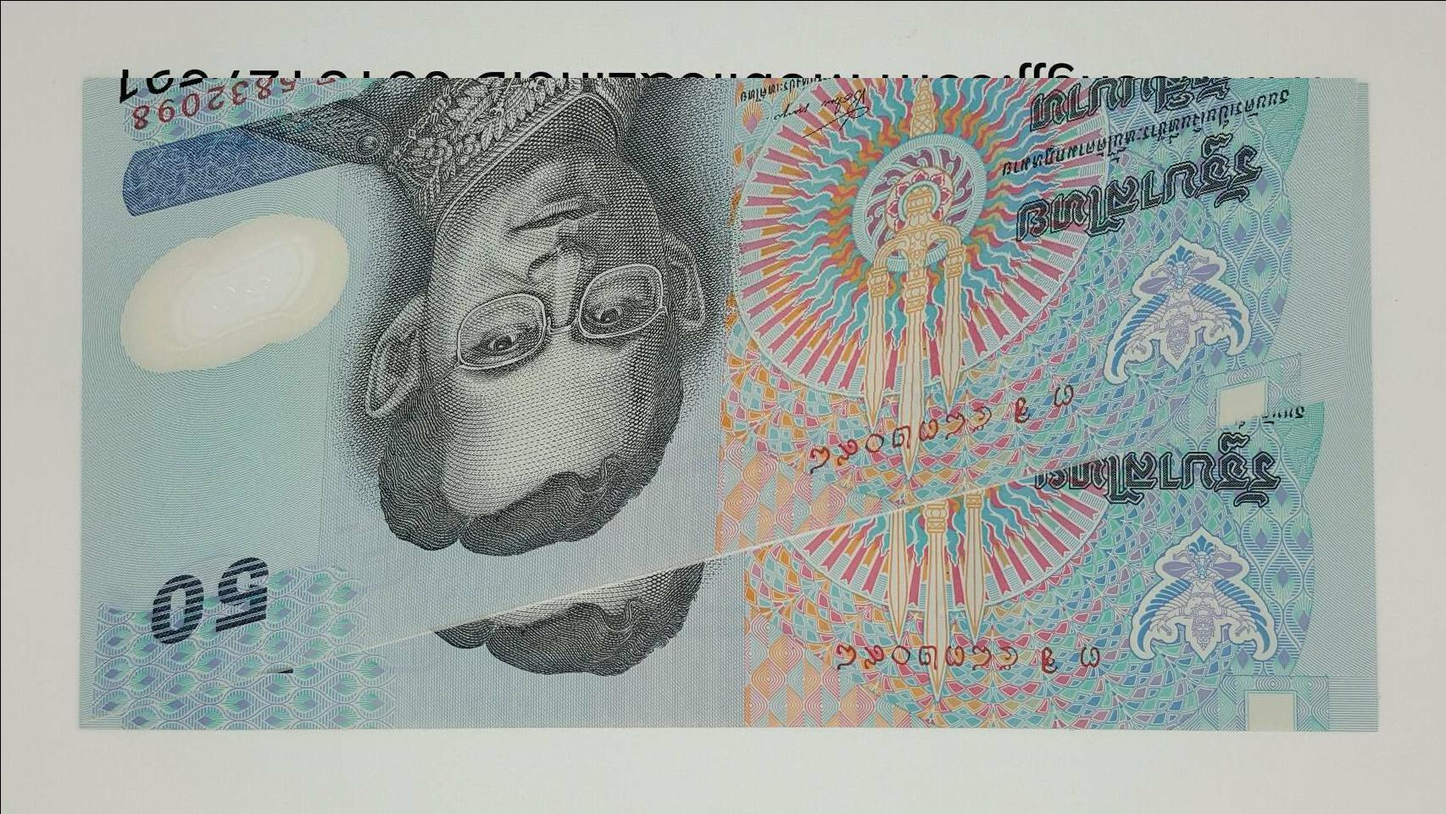50BahtTai: (83, 78, 1374, 731)
